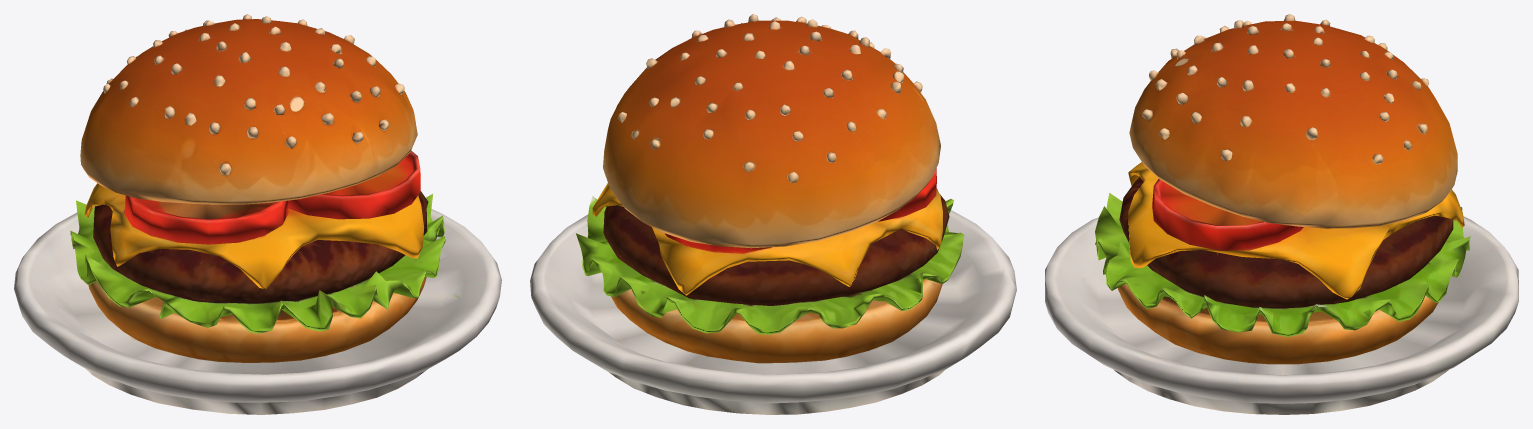
File: 70379560-f913-44d2-9ddb-fd2b4f17f9e1.glb
3 views of the same model, side by side, from view 1: azimuth 30°, elevation 25°; view 2: azimuth 150°, elevation 25°; view 3: azimuth 270°, elevation 25° (orthographic).
Visible parts, largest first — view 1: Mesh_0.001; view 2: Mesh_0.001; view 3: Mesh_0.001.
Part boxes in pixels (x1,y1,x2,y2): Mesh_0.001: (14, 14, 501, 414); Mesh_0.001: (530, 14, 1016, 414); Mesh_0.001: (1045, 14, 1518, 414).
Bounding box in the file's own units: 0.1445 × 0.1 × 0.1445.
Materials: 1 (1 with a texture image).
